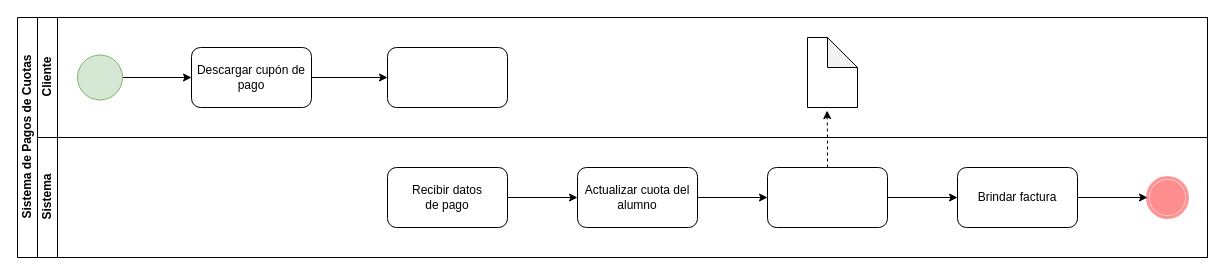
Image size: 1225x275. Some labels were removed from this diagram. The shapes that lost their labels are listed below. From the top down, each one's centre as x and y in pixels, then its label:
At pixel 447 77: "Pagar cupón de pago".
At pixel 832 72: "Factura".
At pixel 827 197: "Generar factura".
